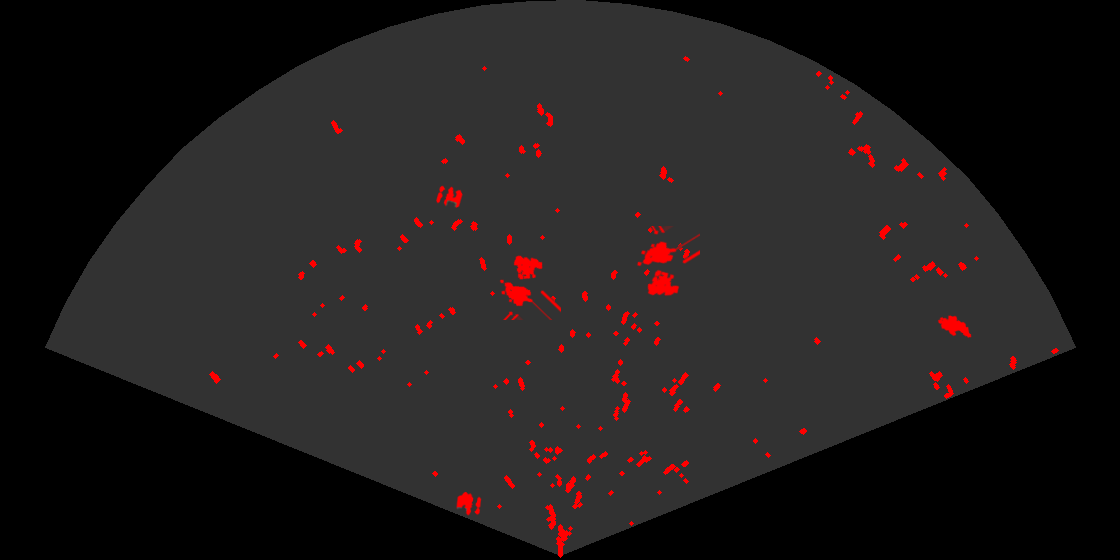AUV: (936, 314, 973, 340)
ball: (455, 490, 483, 517), (435, 184, 464, 209)
cage: (635, 226, 700, 298), (498, 254, 561, 320)
